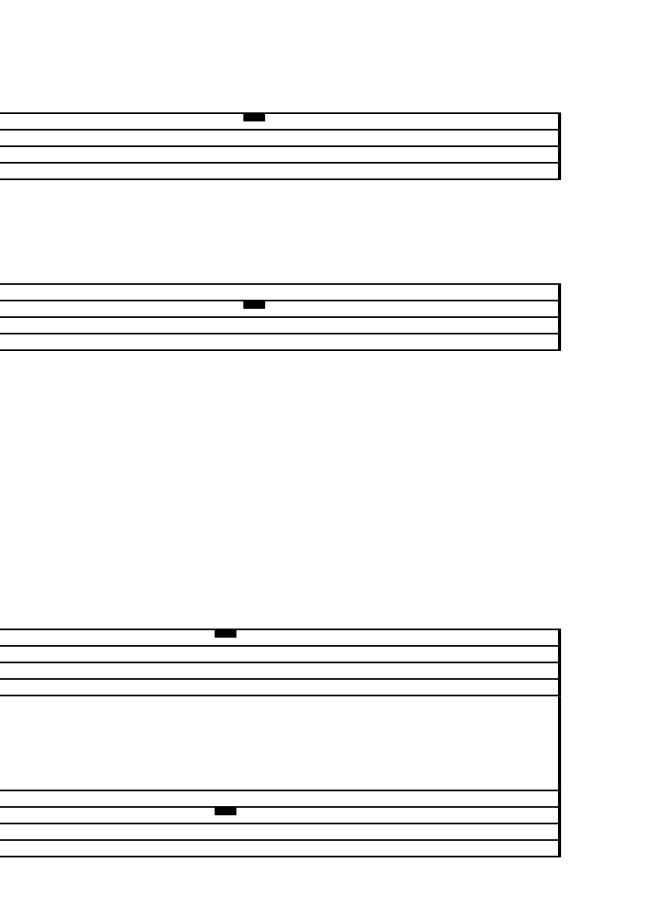Rests1: (238, 294, 270, 314), (209, 801, 241, 821), (238, 108, 270, 127), (209, 624, 241, 643)
Single_barline: (551, 283, 567, 349), (551, 629, 567, 695), (551, 790, 567, 856), (551, 114, 567, 179)
